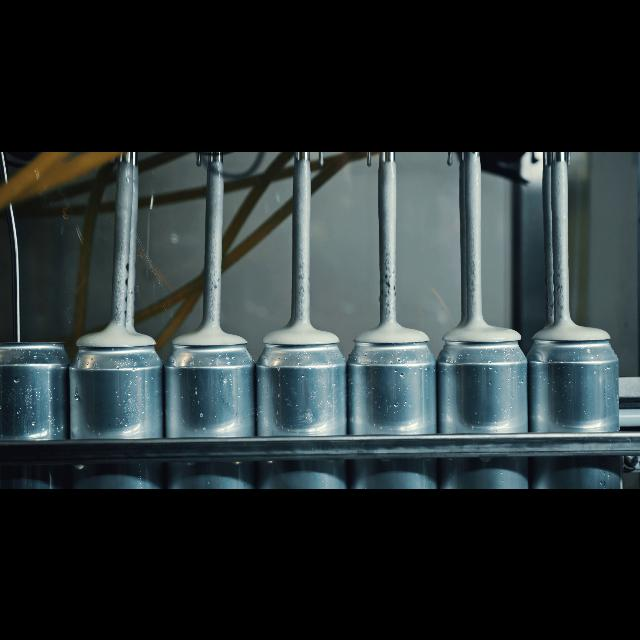empty: (1, 335, 68, 485)
full: (442, 318, 530, 488), (169, 322, 257, 488), (74, 322, 164, 482), (352, 322, 438, 488), (264, 322, 348, 488), (536, 320, 618, 488)
